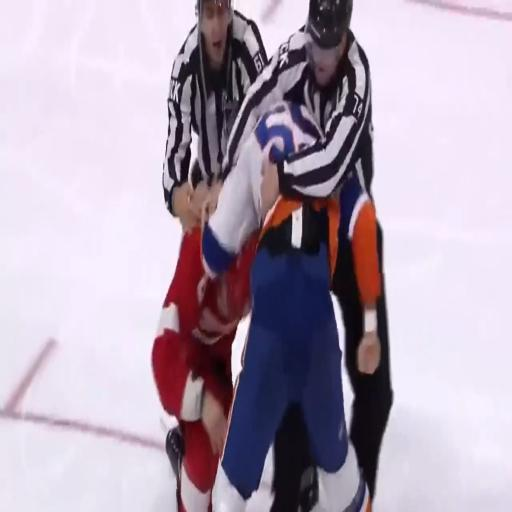violencia: (140, 2, 396, 512)
